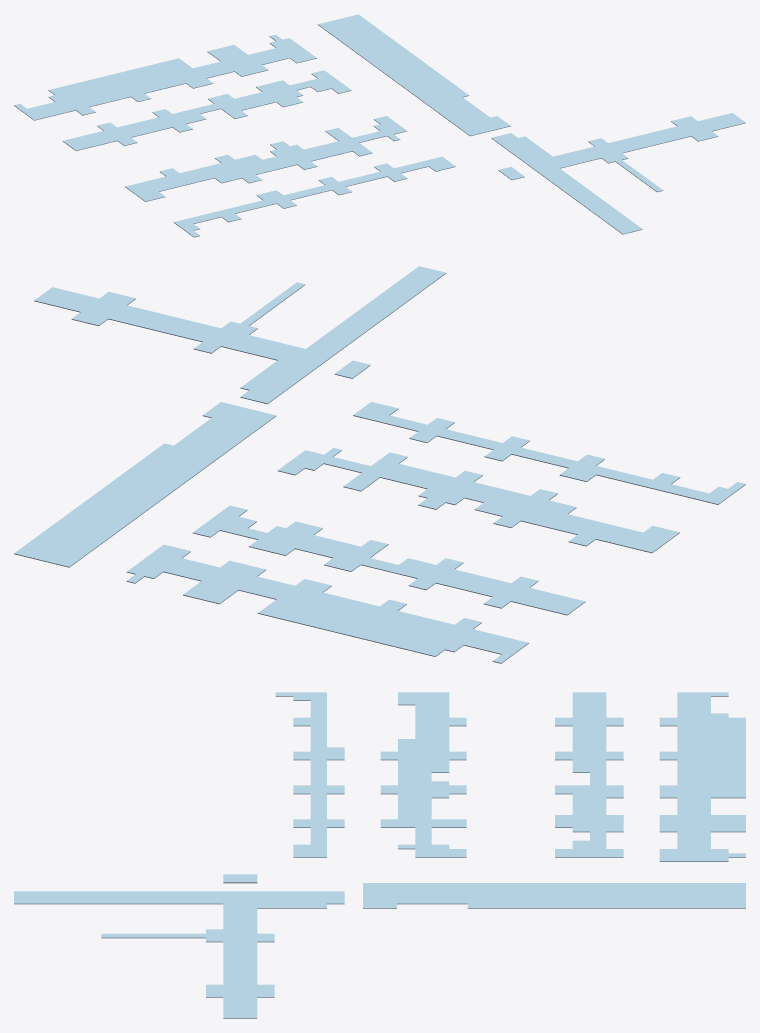
File: SM_MPR4_SolarBank_02_1_LOD2.fbx
3 views of the same model, one above another, from view 1: azimuth 30°, elevation 25°; view 2: azimuth 150°, elevation 25°; view 3: azimuth 270°, elevation 25° (orthographic). The views are drawn at different scales.
Parts seen in each view (by area): view 1: SM_MPR4_SolarBank_02_1_LOD2; view 2: SM_MPR4_SolarBank_02_1_LOD2; view 3: SM_MPR4_SolarBank_02_1_LOD2.
Boxes of the visible parts, x1,y1,x2,y2 form: SM_MPR4_SolarBank_02_1_LOD2: (14, 14, 745, 237); SM_MPR4_SolarBank_02_1_LOD2: (14, 266, 745, 663); SM_MPR4_SolarBank_02_1_LOD2: (14, 692, 745, 1018).
Bounding box in the file's own units: 8613 × 8178 × 8.6.
